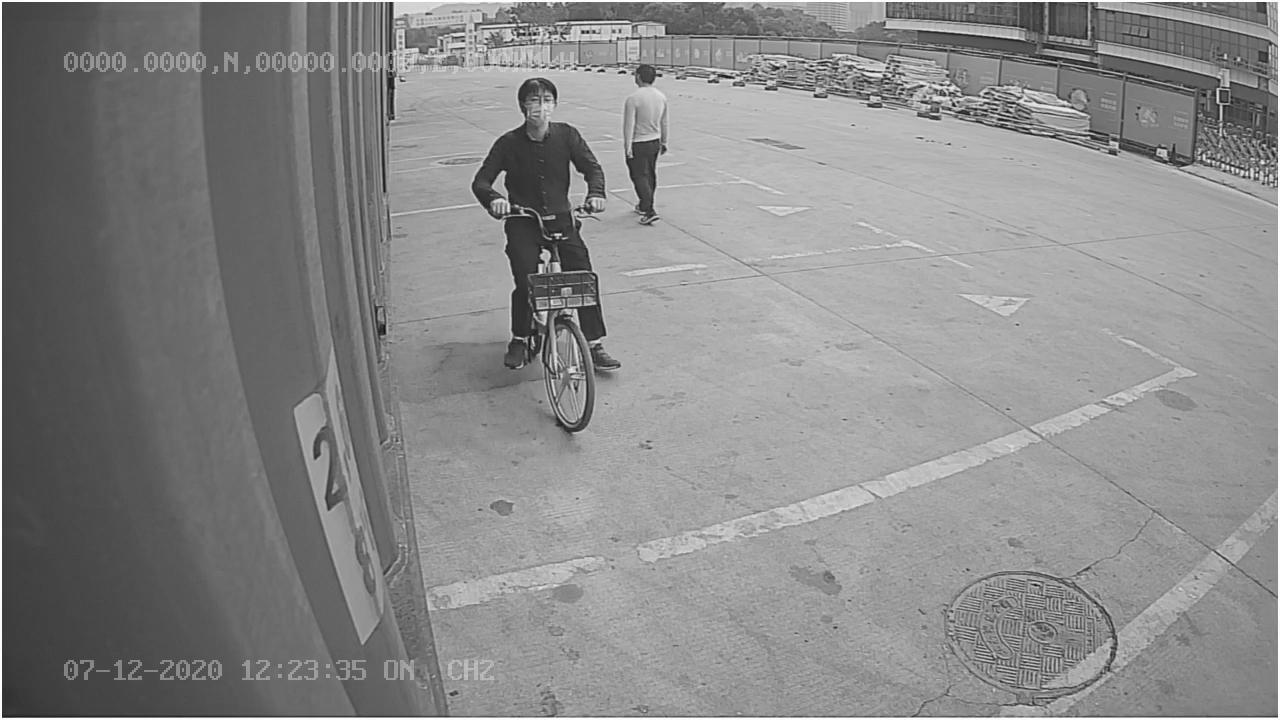person: (614, 60, 672, 234)
